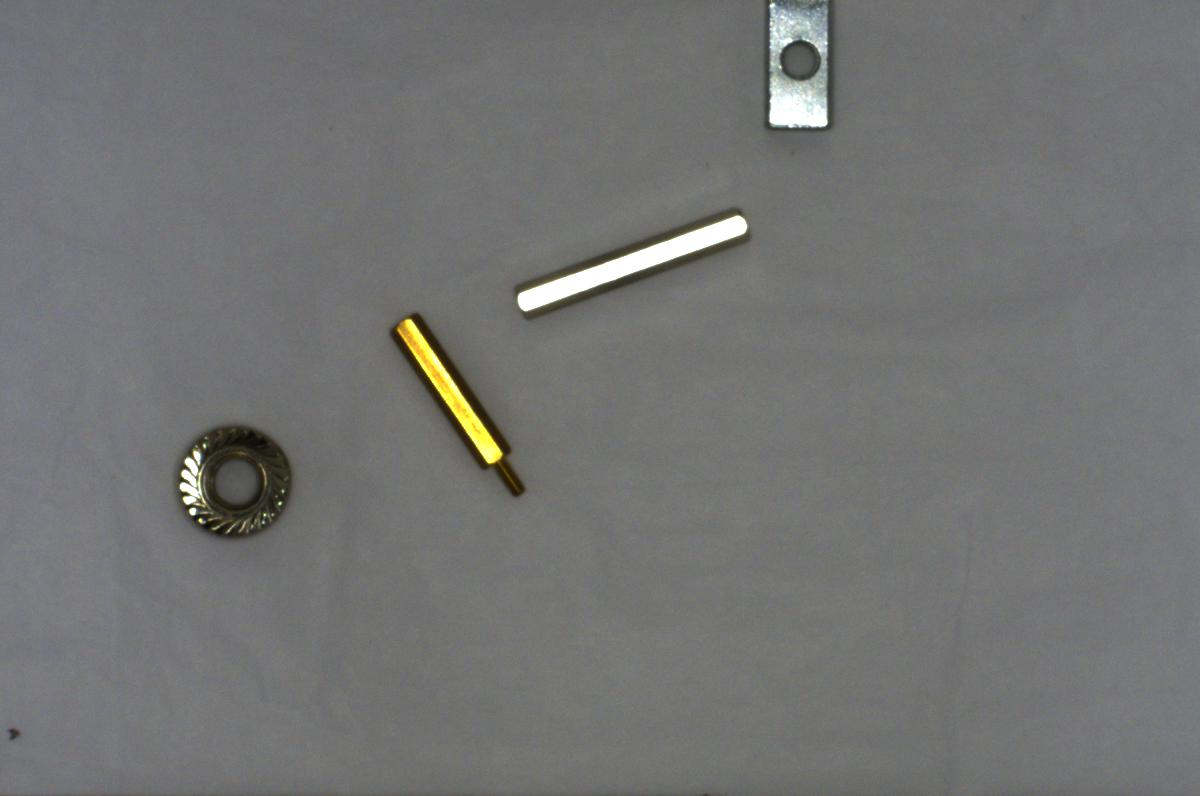Double hexagonal column: (497, 196, 761, 322)
Flange nut: (160, 413, 302, 542)
Hexagon pillar: (378, 303, 539, 506)
Rectangular nut: (754, 1, 844, 142)
